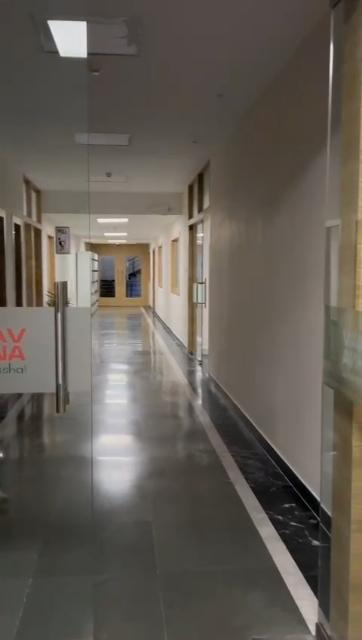door: (182, 185, 210, 362), (98, 241, 152, 305)
floor: (5, 312, 313, 640)
wall: (205, 30, 322, 501)
